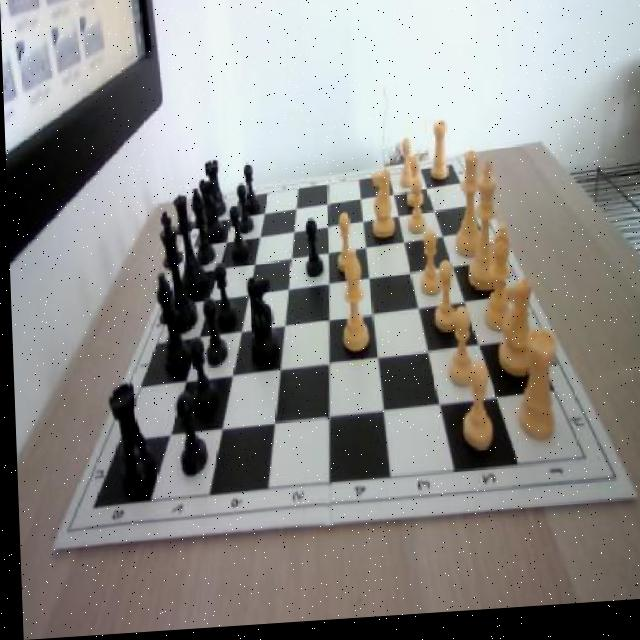bishop: (153, 274, 187, 376), (189, 188, 213, 270)
black-bishop: (156, 210, 196, 337)
black-king: (244, 277, 278, 372), (198, 181, 221, 243)
black-knight: (173, 393, 205, 479), (186, 340, 214, 418), (201, 300, 227, 370), (212, 263, 234, 332), (301, 221, 321, 283), (226, 208, 246, 265), (240, 167, 257, 218), (236, 186, 252, 239)
black-pawn: (171, 194, 206, 302)
black-queen: (105, 382, 154, 491), (203, 163, 223, 221)
black-rook: (477, 232, 517, 339), (338, 257, 368, 359)
white-bishop: (462, 166, 505, 301)
white-king: (493, 283, 535, 387), (368, 175, 395, 243)
white-knight: (456, 369, 491, 461), (442, 309, 475, 396), (429, 265, 458, 342), (416, 236, 442, 305), (333, 219, 355, 279), (405, 184, 426, 242), (396, 143, 415, 194), (403, 161, 422, 212)
white-pawn: (448, 155, 484, 263)
white-queen: (514, 335, 557, 450), (428, 126, 448, 190)
